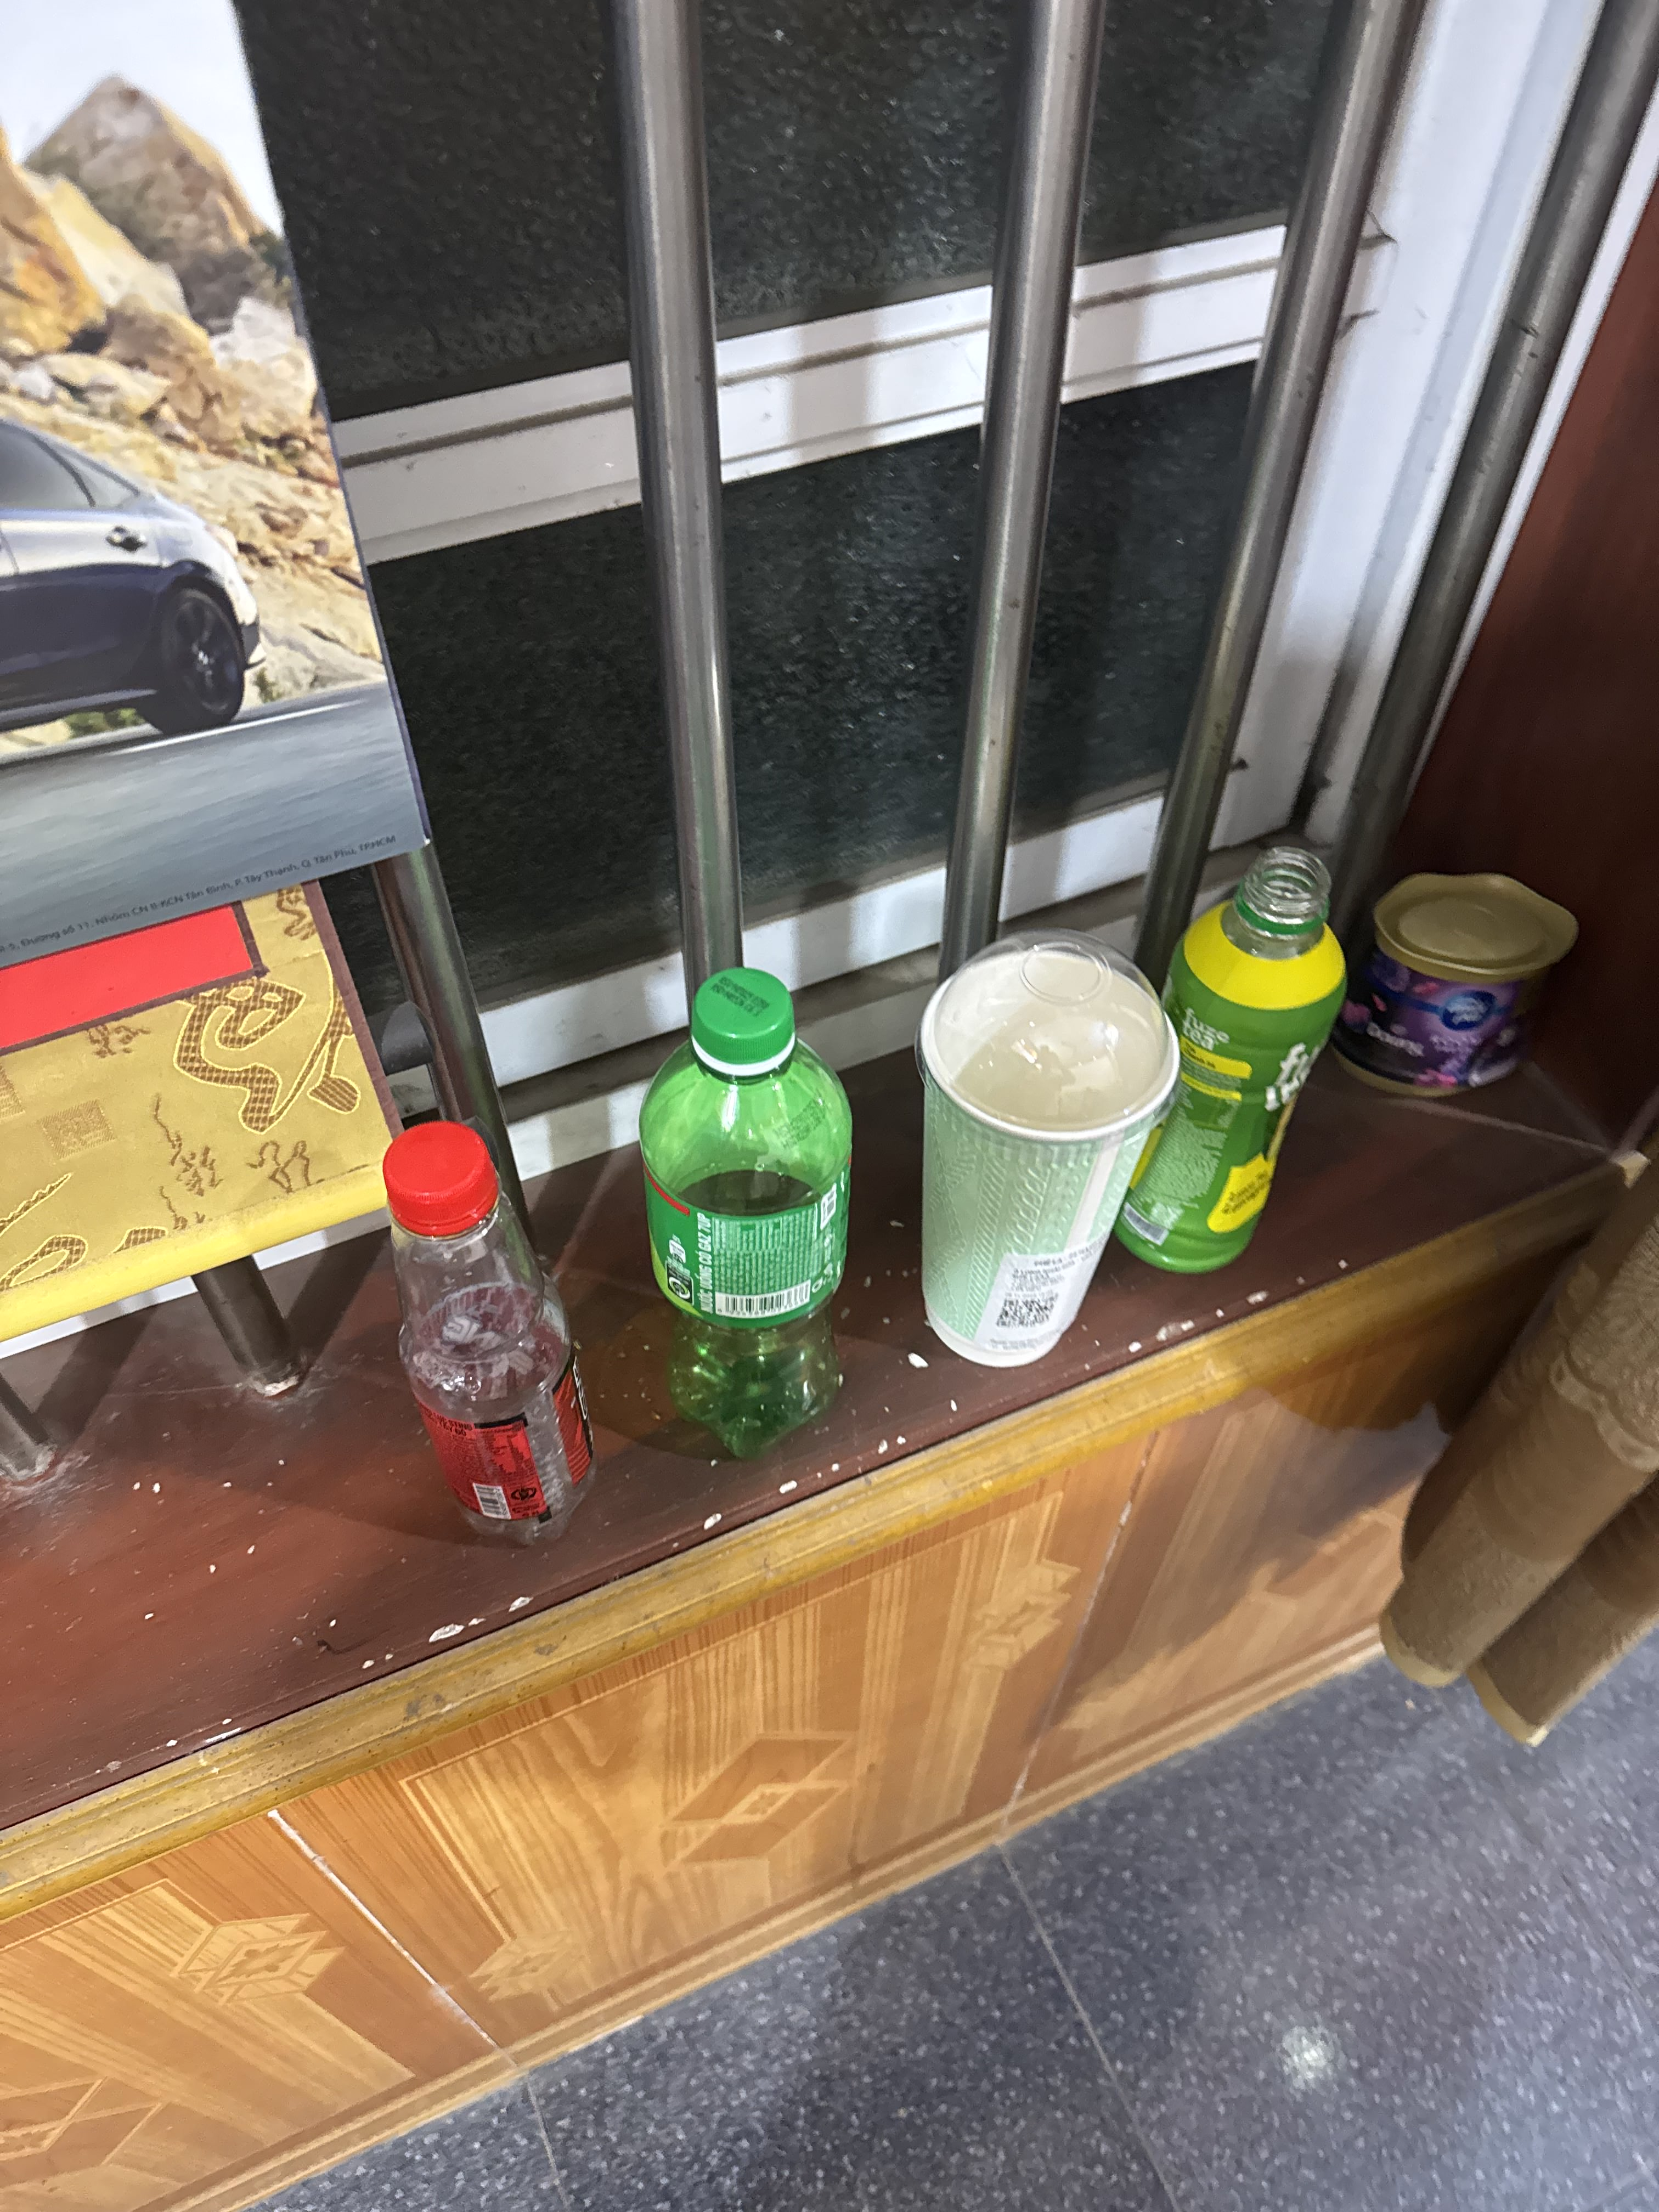2: (871, 904, 1190, 1430)
bottle: (1101, 824, 1378, 1303), (626, 944, 864, 1498), (371, 1106, 594, 1609)
